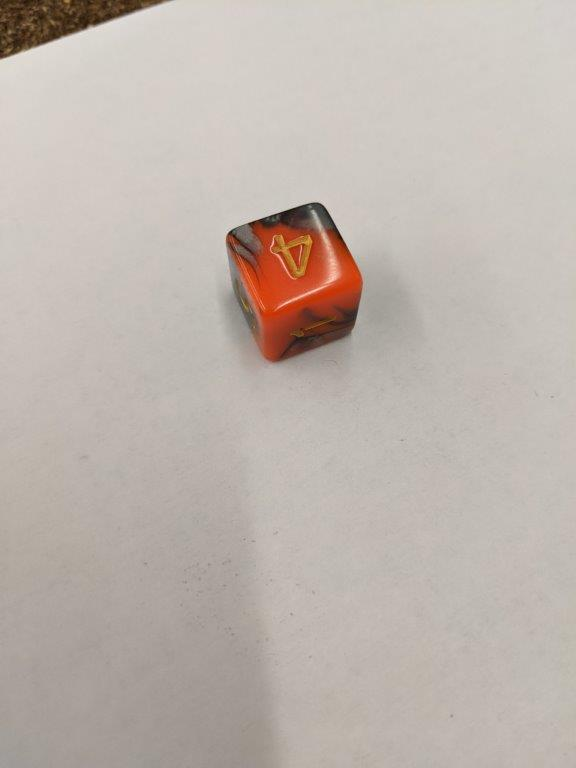d6-4: (226, 202, 365, 367)
